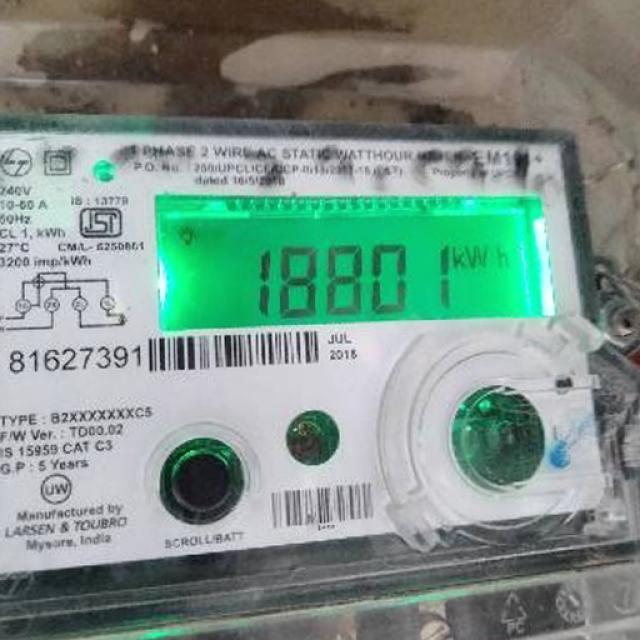display: (157, 192, 563, 332)
frame: (250, 228, 457, 320), (7, 338, 147, 376), (327, 344, 361, 364), (17, 441, 58, 457), (97, 422, 124, 436), (35, 458, 48, 472), (104, 438, 114, 453)
gauge: (0, 113, 640, 640)
